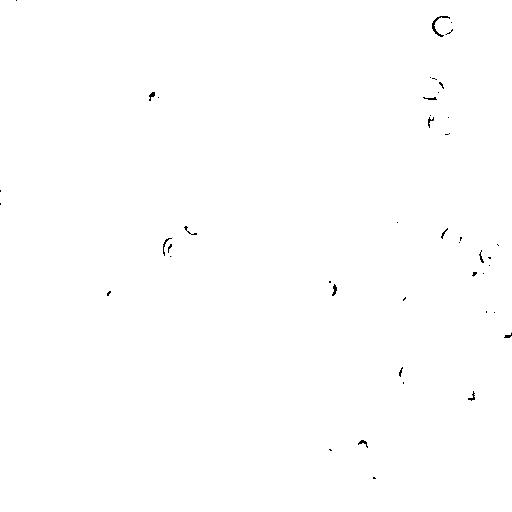micro-algae: (25, 12, 149, 138), (198, 445, 309, 512), (157, 335, 241, 414), (151, 1, 247, 57), (1, 209, 50, 305), (77, 247, 130, 299), (425, 105, 461, 139), (105, 425, 135, 455), (76, 279, 108, 307), (161, 235, 189, 265), (9, 409, 39, 437), (478, 239, 506, 269), (384, 280, 413, 307), (417, 76, 445, 103), (20, 454, 51, 477), (69, 449, 96, 475), (141, 241, 167, 267), (144, 82, 171, 106), (225, 95, 248, 123), (362, 462, 390, 485), (83, 255, 107, 280), (247, 410, 271, 435), (468, 269, 493, 292), (441, 225, 464, 249), (431, 14, 455, 36), (317, 277, 339, 299), (308, 501, 350, 512), (265, 21, 288, 40), (209, 400, 229, 421), (199, 98, 217, 120), (399, 363, 417, 385), (175, 286, 193, 306), (1, 186, 17, 208), (122, 492, 139, 511), (325, 436, 344, 453), (182, 222, 203, 237), (482, 305, 499, 322), (355, 437, 371, 455), (153, 342, 169, 359), (415, 210, 429, 229), (105, 286, 121, 302), (503, 350, 511, 382), (385, 0, 402, 15), (463, 385, 478, 401), (496, 323, 511, 339), (397, 213, 411, 230), (180, 0, 201, 10), (55, 101, 71, 114), (5, 0, 27, 7)
